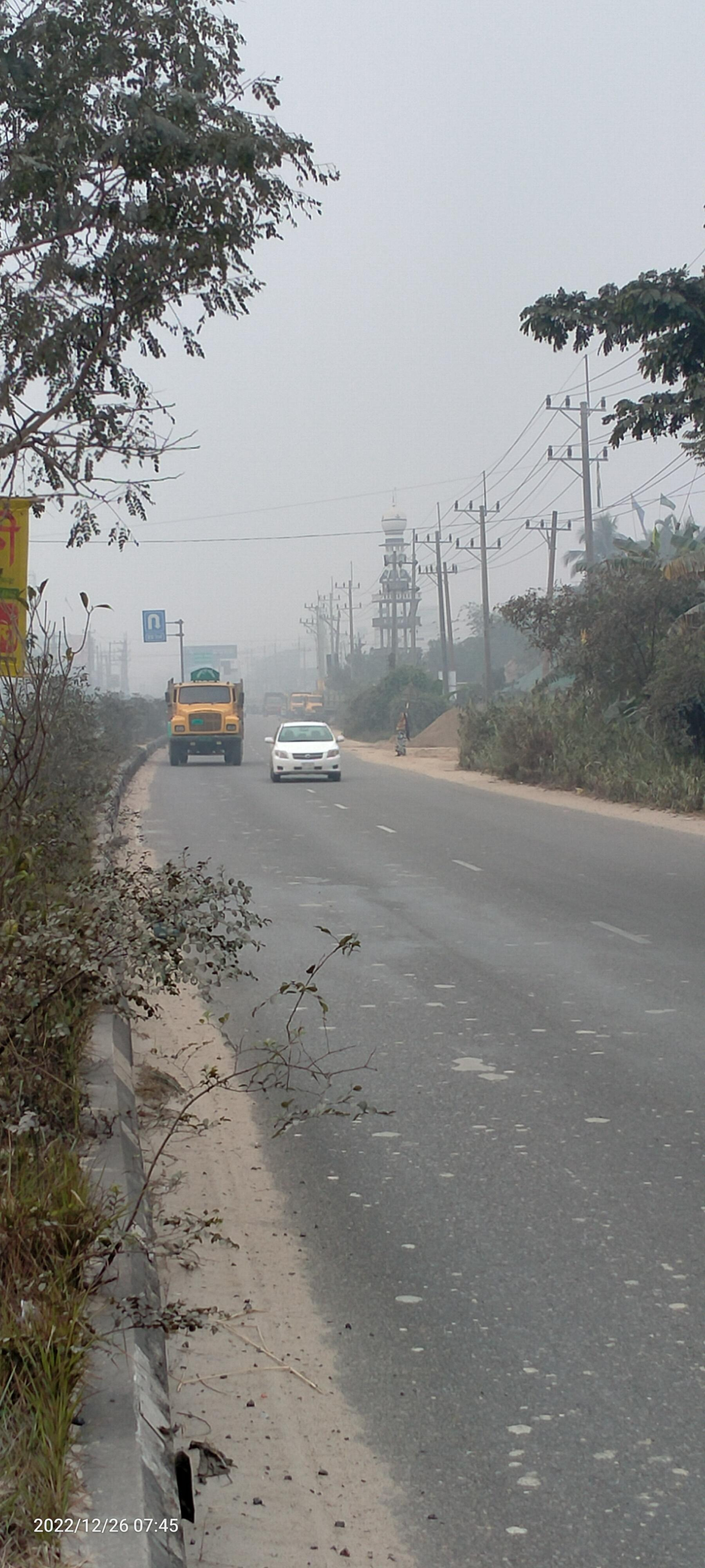Car: (260, 710, 359, 790)
Truck: (159, 663, 257, 774)
